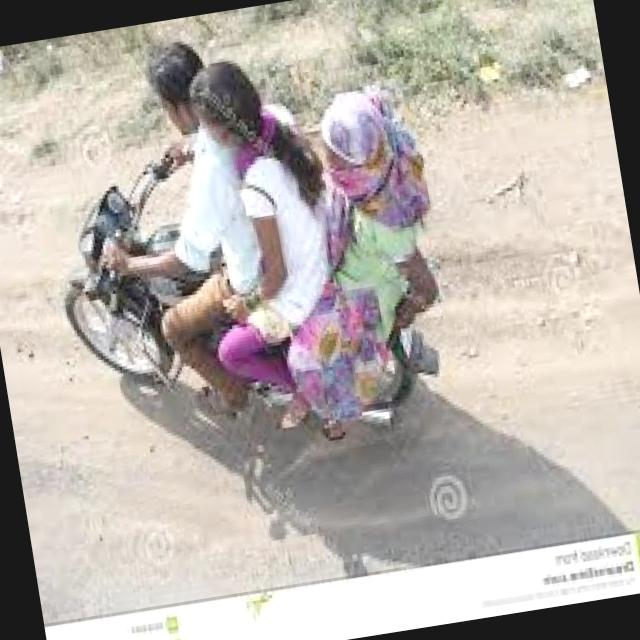motorcycle: (37, 181, 218, 454)
person: (280, 56, 470, 409), (176, 43, 348, 387), (112, 28, 285, 344)
rider_region: (13, 2, 461, 468)
